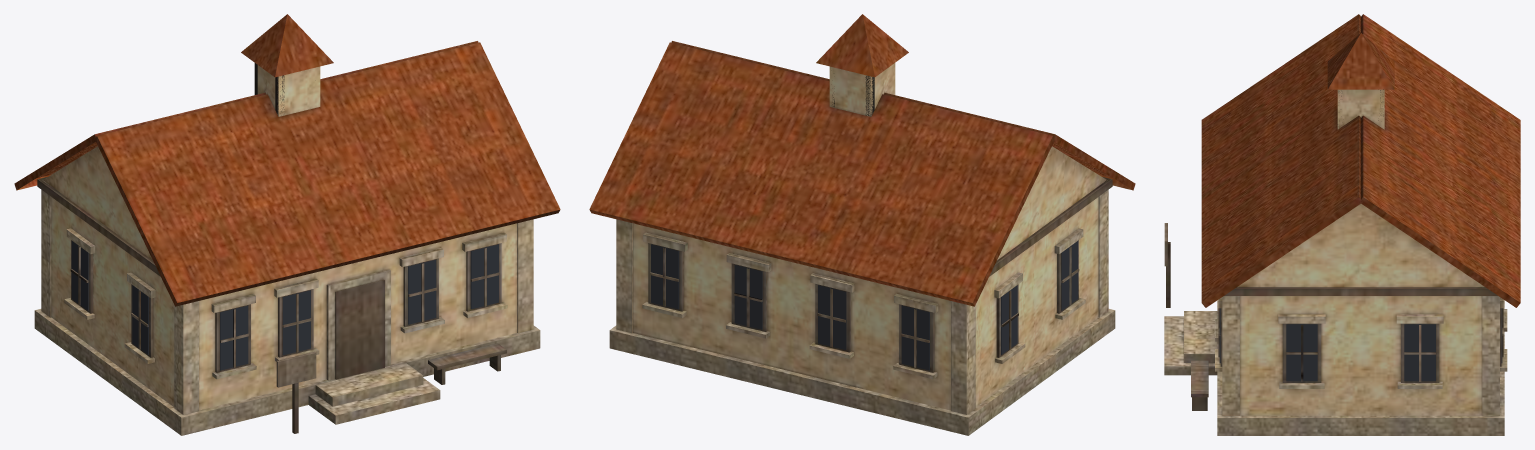
File: school.glb
3 renders of one model, left to right at view 1: azimuth 30°, elevation 25°; view 2: azimuth 150°, elevation 25°; view 3: azimuth 270°, elevation 25°, orthographic. The views are drawn at different scales.
Parts seen in each view (by area): view 1: school; view 2: school; view 3: school.
Boxes of the visible parts, box(x1,y1,x2,y2) form: school: box(14, 14, 560, 435); school: box(589, 14, 1135, 435); school: box(1164, 14, 1520, 435).
Bounding box in the file's own units: 11 × 8.9 × 9.05.
2 materials, 1 textured.
